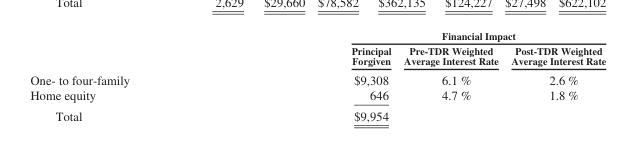table: (29, 29, 605, 122)
table column: (29, 29, 239, 122), (239, 29, 396, 122), (396, 29, 504, 122), (504, 29, 605, 122)
table column header: (29, 29, 605, 69)
table row: (29, 42, 605, 69), (29, 69, 605, 87), (29, 87, 605, 105), (29, 105, 605, 122), (29, 29, 605, 42)
table spanning cell: (239, 29, 605, 42)
